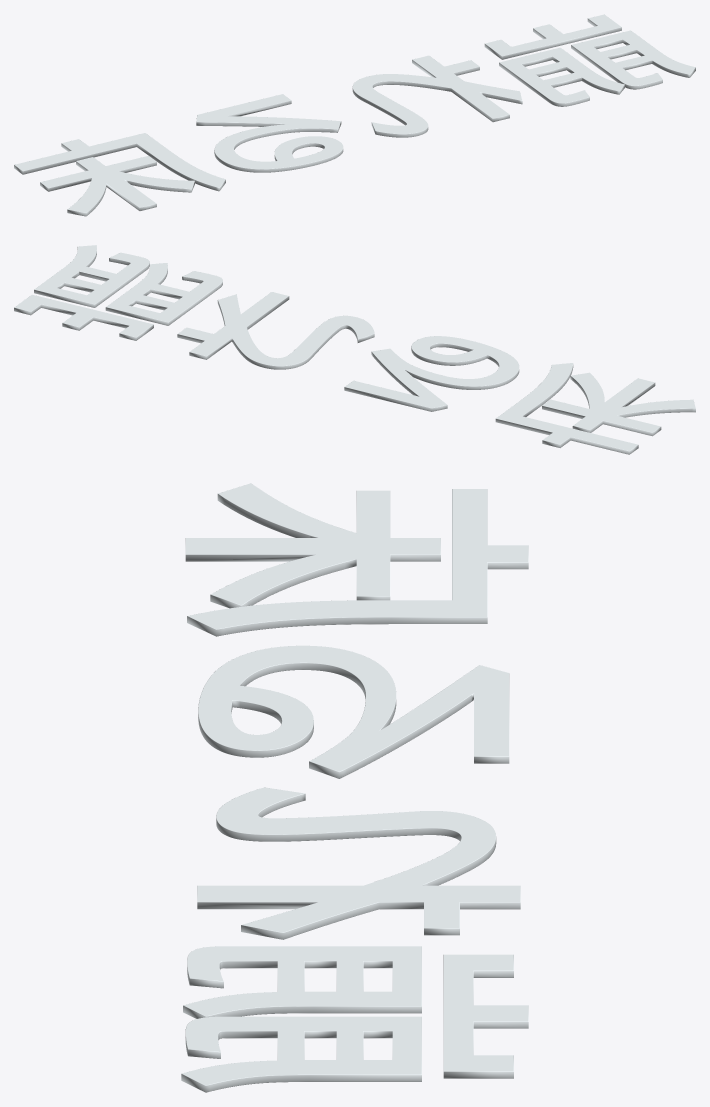
The model's file is stage1_falling_floor_name.obj.
3 renders of one model, top to bottom at view 1: azimuth 30°, elevation 25°; view 2: azimuth 150°, elevation 25°; view 3: azimuth 270°, elevation 25°, orthographic. The views are drawn at different scales.
Parts seen in each view (by area): view 1: stage1_falling_floor_name; view 2: stage1_falling_floor_name; view 3: stage1_falling_floor_name.
Part boxes in pixels (left/top/right/bottom): stage1_falling_floor_name: left=14, top=14, right=695, bottom=216; stage1_falling_floor_name: left=14, top=245, right=695, bottom=454; stage1_falling_floor_name: left=181, top=483, right=528, bottom=1092.
Bounding box in the file's own units: 2.75 × 0.0153 × 0.6701.
1 material, 1 textured.
